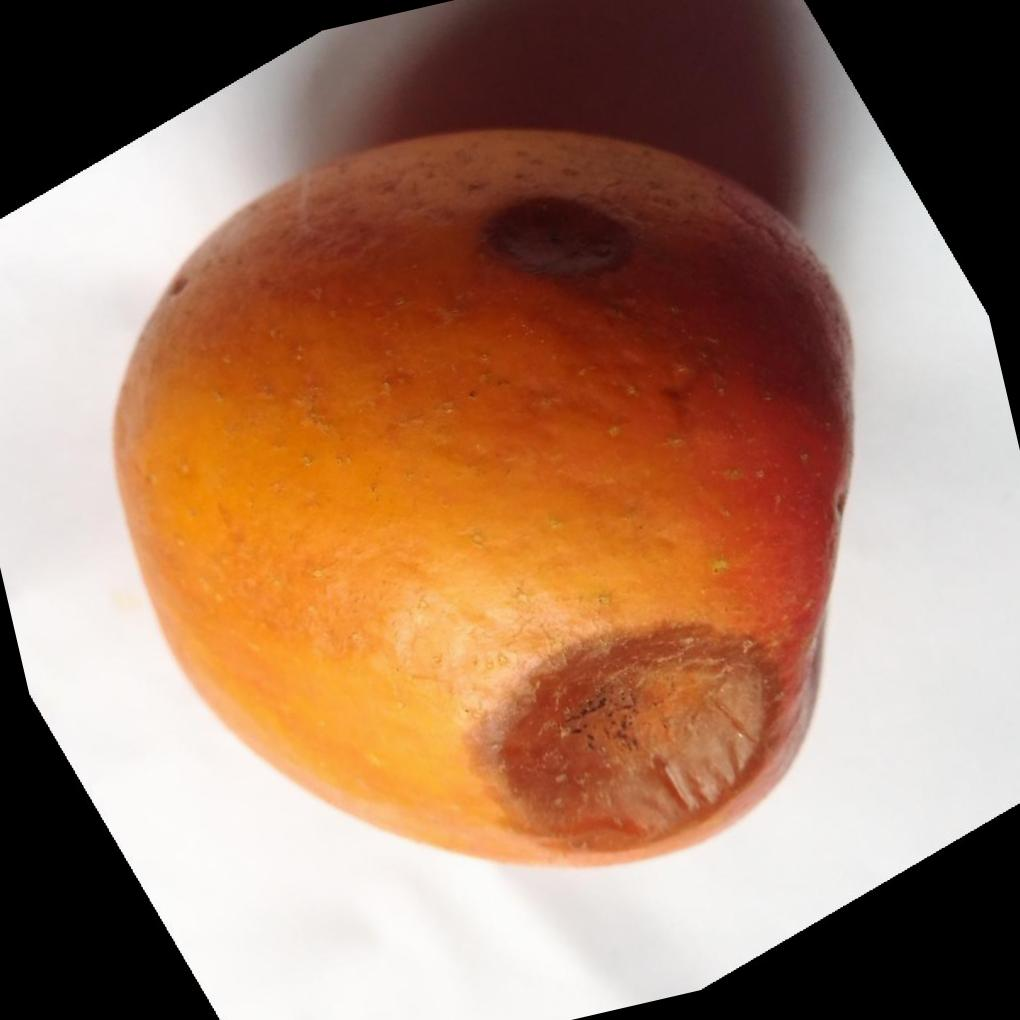FreshOrange: (108, 128, 857, 874)
